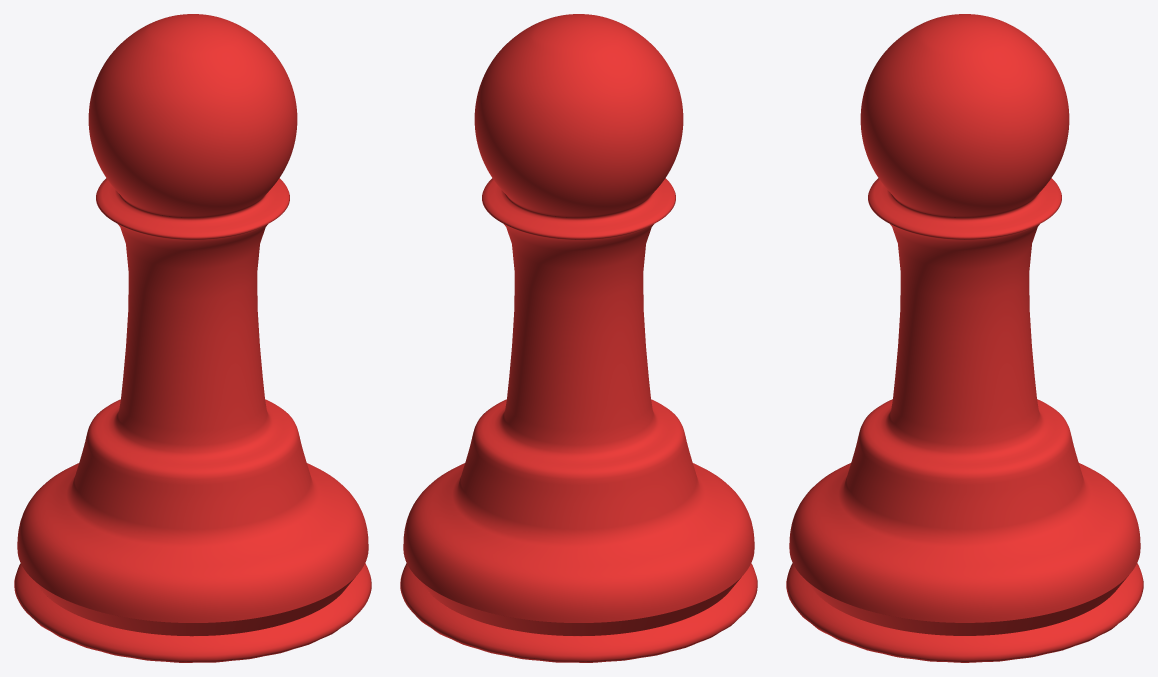
File: Pawn.fbx
The picture shows the model from 3 angles, left to right: view 1: azimuth 30°, elevation 25°; view 2: azimuth 150°, elevation 25°; view 3: azimuth 270°, elevation 25°; orthographic projection.
Parts seen in each view (by area): view 1: Cylinder; view 2: Cylinder; view 3: Cylinder.
Part boxes in pixels (x1=…): Cylinder: x1=14, y1=14, x2=371, y2=662; Cylinder: x1=400, y1=14, x2=757, y2=662; Cylinder: x1=786, y1=14, x2=1143, y2=662.
Size of the model in its own units: 196 by 348 by 196.
